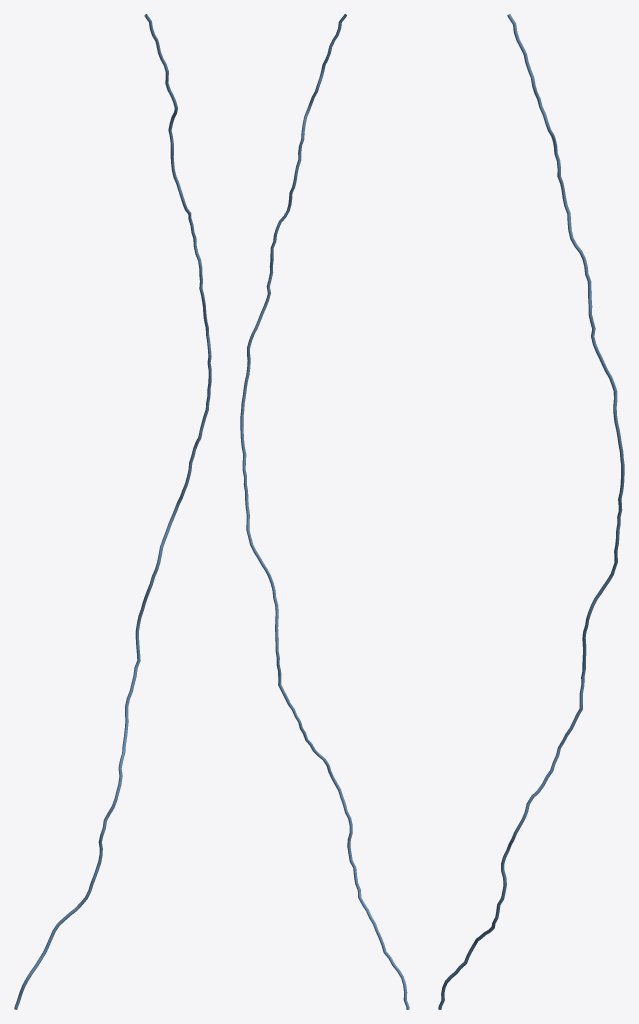
Rendered from sweep79.fbx.
3 renders of one model, left to right at view 1: azimuth 30°, elevation 25°; view 2: azimuth 150°, elevation 25°; view 3: azimuth 330°, elevation 25°, orthographic. The views are drawn at different scales.
Visible parts, largest first — view 1: sweep79; view 2: sweep79; view 3: sweep79.
Boxes of the visible parts, bbox=[...] form: sweep79: bbox=[14, 14, 211, 1009]; sweep79: bbox=[240, 14, 409, 1009]; sweep79: bbox=[438, 14, 624, 1009].
Bounding box in the file's own units: 1.27 × 6.47 × 0.4849.
